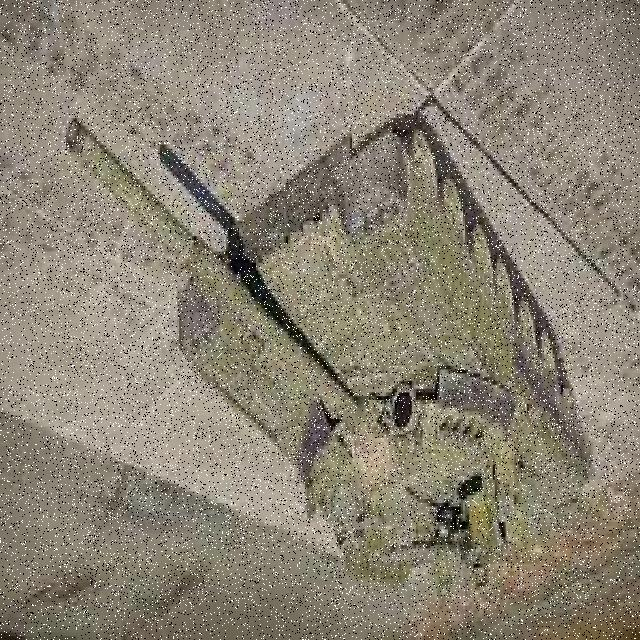MIL_MBT: (64, 112, 591, 604)
